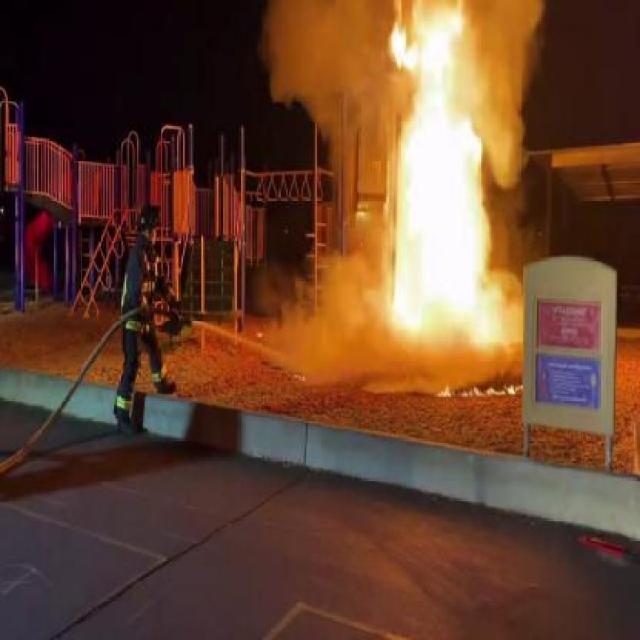Fire: (395, 115, 483, 343), (414, 4, 464, 108), (476, 289, 500, 346), (389, 28, 417, 74)
